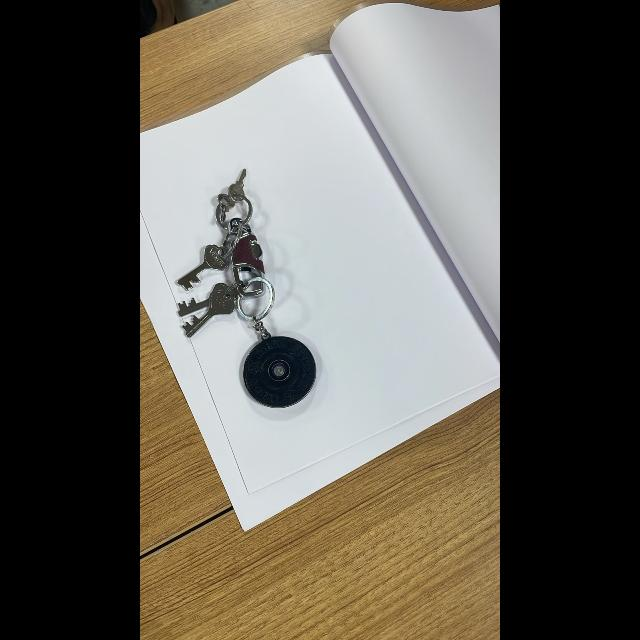keys: (172, 155, 346, 423)
